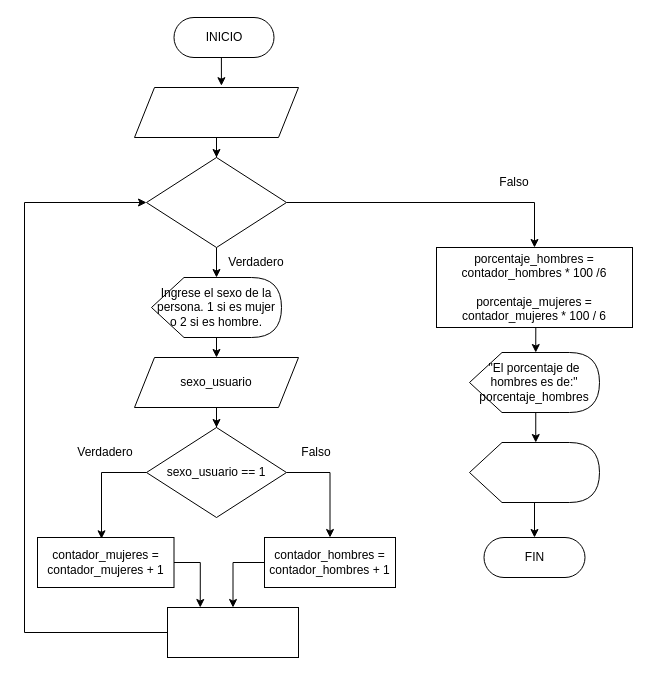
This 650x675 diagram has some shape labels left out. Each missing label, with the centre of its shape:
"El porcentaje de mujeres es de:" porcentaje_mujeres: pixel 534 472
contador < 6: pixel 216 202
contador = 0 contador_mujeres = 0 contador_hombres = 0: pixel 216 112
contador = contador + 1: pixel 232 632
